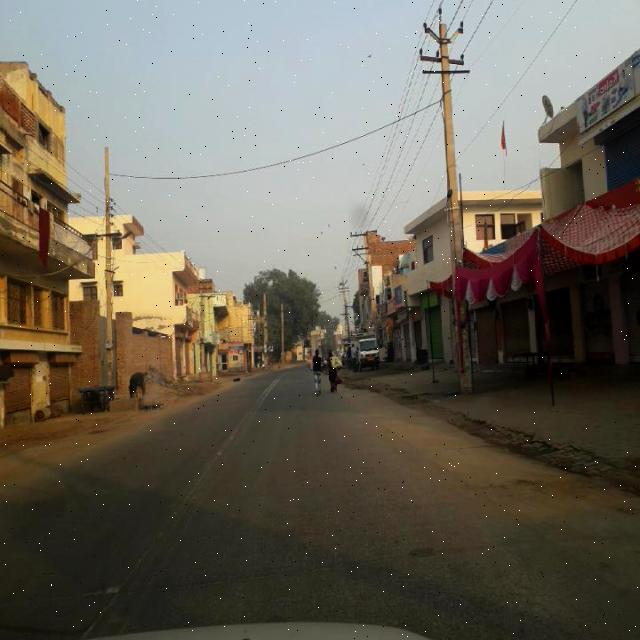D01: (84, 520, 172, 636), (181, 426, 249, 512)
D44: (106, 520, 177, 608), (180, 428, 247, 514)
